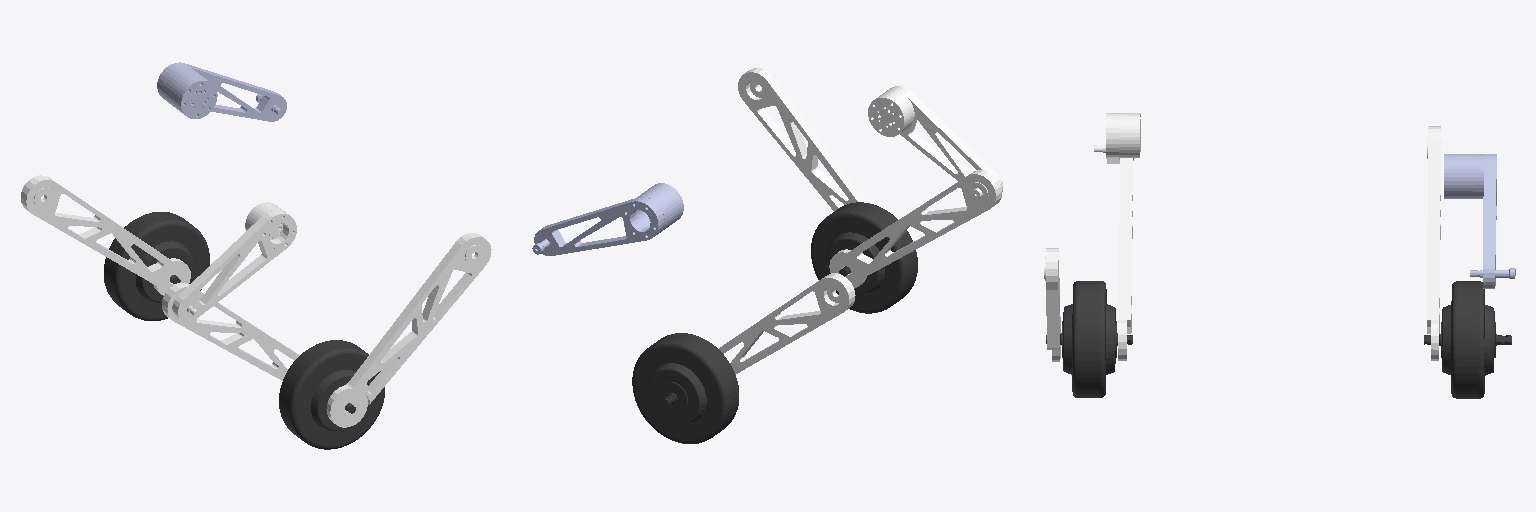
The robot description file, URDF, robot "wheeled_bipedal_description":
<?xml version="1.0"?>
<!-- This URDF was automatically created by SolidWorks to URDF Exporter! Originally created by Stephen Brawner (brawner@gmail.com) 
     Commit Version: 1.6.0-4-g7f85cfe  Build Version: 1.6.7995.38578
     For more information, please see http://wiki.ros.org/sw_urdf_exporter -->
<robot
  name="wheeled_bipedal_description">
  <link
    name="base_link">
    <inertial>
      <origin
        xyz="0.0021437 -0.0018095 0.031519"
        rpy="0 0 0" />
      <mass
        value="1.339" />
      <inertia
        ixx="0.031029"
        ixy="0.000278"
        ixz="0.000114"
        iyy="0.017099"
        iyz="-0.00017"
        izz="0.044317" />
    </inertial>
    <visual>
      <origin
        xyz="0 0 0"
        rpy="0 0 0" />
      <geometry>
        <mesh
          filename="package://wheeled_bipedal_description/meshes/base_link.STL" />
      </geometry>
      <material
        name="">
        <color
          rgba="0.79216 0.81961 0.93333 1" />
      </material>
    </visual>
    <collision>
      <origin
        xyz="0 0 0"
        rpy="0 0 0" />
      <geometry>
        <mesh
          filename="package://wheeled_bipedal_description/meshes/base_link.STL" />
      </geometry>
    </collision>
  </link>
  <link
    name="LF_leg_link">
    <inertial>
      <origin
        xyz="0.04809 -0.017442 0.00033347"
        rpy="0 0 0" />
      <mass
        value="0.21238" />
      <inertia
        ixx="0.000116"
        ixy="-0.000106"
        ixz="4E-06"
        iyy="0.000794"
        iyz="1E-06"
        izz="0.000814" />
    </inertial>
    <visual>
      <origin
        xyz="0 0 0"
        rpy="0 0 0" />
      <geometry>
        <mesh
          filename="package://wheeled_bipedal_description/meshes/LF_leg_link.STL" />
      </geometry>
      <material
        name="">
        <color
          rgba="0.79216 0.81961 0.93333 1" />
      </material>
    </visual>
    <collision>
      <origin
        xyz="0 0 0"
        rpy="0 0 0" />
      <geometry>
        <mesh
          filename="package://wheeled_bipedal_description/meshes/LF_leg_link.STL" />
      </geometry>
    </collision>
  </link>
  <joint name="base_LF_joint" type="revolute">
    <origin xyz="0.057024 0.25604 0.053" rpy="0 0.43149 -0.011811" />
    <parent link="base_link" />
    <child link="LF_leg_link" />
    <axis xyz="0 1 0" />
    <limit lower="-2.0" upper="1.57" effort="1e9" velocity="1e9"/>
  </joint>
  <link
    name="LF_knee_link">
    <inertial>
      <origin
        xyz="0.1231 -0.0078704 -0.00048416"
        rpy="0 0 0" />
      <mass
        value="0.2511" />
      <inertia
        ixx="5.8E-05"
        ixy="1.7E-05"
        ixz="-1E-05"
        iyy="0.002071"
        iyz="0"
        izz="0.002022" />
    </inertial>
    <visual>
      <origin
        xyz="0 0 0"
        rpy="0 0 0" />
      <geometry>
        <mesh
          filename="package://wheeled_bipedal_description/meshes/LF_knee_link.STL" />
      </geometry>
      <material
        name="">
        <color
          rgba="1 1 1 1" />
      </material>
    </visual>
    <collision>
      <origin
        xyz="0 0 0"
        rpy="0 0 0" />
      <geometry>
        <mesh
          filename="package://wheeled_bipedal_description/meshes/LF_knee_link.STL" />
      </geometry>
    </collision>
  </link>
  <joint
    name="LF_knee_joint"
    type="continuous">
    <origin
      xyz="0.15 0.015 0"
      rpy="-3.1416 1.1851 -3.1416" />
    <parent
      link="LF_leg_link" />
    <child
      link="LF_knee_link" />
    <axis
      xyz="0 1 0" />
  </joint>
  <link
    name="left_wheel_link">
    <inertial>
      <origin
        xyz="-2E-06 3E-06 0"
        rpy="0 0 0" />
      <mass
        value="0.85254" />
      <inertia
        ixx="0.001074"
        ixy="0"
        ixz="0"
        iyy="0.001774"
        iyz="0"
        izz="0.001074" />
    </inertial>
    <visual>
      <origin
        xyz="0 0 0"
        rpy="0 0 0" />
      <geometry>
        <mesh
          filename="package://wheeled_bipedal_description/meshes/left_wheel_link.STL" />
      </geometry>
      <material
        name="">
        <color
          rgba="0.29804 0.29804 0.29804 1" />
      </material>
    </visual>
    <collision>
      <origin
        xyz="0 0 0"
        rpy="0 0 0" />
      <geometry>
        <mesh
          filename="package://wheeled_bipedal_description/meshes/left_wheel_link.STL" />
      </geometry>
    </collision>
  </link>
  <joint
    name="left_wheel_joint"
    type="continuous">
    <origin
      xyz="0.249998873591879 -0.0491030149636819 0"
      rpy="-3.13051030477686 -0.753563717743009 3.1253968717351" />
    <parent
      link="LF_knee_link" />
    <child
      link="left_wheel_link" />
    <axis
      xyz="-0.0118103395321176 -0.999930255507921 0" />
  </joint>
  <link
    name="LR_leg_link">
    <inertial>
      <origin
        xyz="0.051202 -0.01272 -0.00035505"
        rpy="0 0 0" />
      <mass
        value="0.19947" />
      <inertia
        ixx="6.3E-05"
        ixy="-4.9E-05"
        ixz="-5E-06"
        iyy="0.000751"
        iyz="0"
        izz="0.00073" />
    </inertial>
    <visual>
      <origin
        xyz="0 0 0"
        rpy="0 0 0" />
      <geometry>
        <mesh
          filename="package://wheeled_bipedal_description/meshes/LR_leg_link.STL" />
      </geometry>
      <material
        name="">
        <color
          rgba="0.79216 0.81961 0.93333 1" />
      </material>
    </visual>
    <collision>
      <origin
        xyz="0 0 0"
        rpy="0 0 0" />
      <geometry>
        <mesh
          filename="package://wheeled_bipedal_description/meshes/LR_leg_link.STL" />
      </geometry>
    </collision>
  </link>
  <joint name="base_LR_joint" type="revolute">
    <origin xyz="-0.051597 0.20412 0.053" rpy="-3.1416 0.51685 3.1298" />
    <parent link="base_link" />
    <child link="LR_leg_link" />
    <axis xyz="0 1 0" />
    <limit lower="-0.9" upper="2.089" effort="1e9" velocity="1e9"/>
  </joint>
  <link
    name="LR_knee_link">
    <inertial>
      <origin
        xyz="0.12012 0.0077944 -0.00049441"
        rpy="0 0 0" />
      <mass
        value="0.24589" />
      <inertia
        ixx="5.6E-05"
        ixy="-1.4E-05"
        ixz="-1E-05"
        iyy="0.001963"
        iyz="0"
        izz="0.001916" />
    </inertial>
    <visual>
      <origin
        xyz="0 0 0"
        rpy="0 0 0" />
      <geometry>
        <mesh
          filename="package://wheeled_bipedal_description/meshes/LR_knee_link.STL" />
      </geometry>
      <material
        name="">
        <color
          rgba="1 1 1 1" />
      </material>
    </visual>
    <collision>
      <origin
        xyz="0 0 0"
        rpy="0 0 0" />
      <geometry>
        <mesh
          filename="package://wheeled_bipedal_description/meshes/LR_knee_link.STL" />
      </geometry>
    </collision>
  </link>
  <joint
    name="LR_knee_joint"
    type="continuous">
    <origin
      xyz="0.149999999999806 -0.0300000000000002 0"
      rpy="3.14159265357704 -1.20970432068389 -3.1415926535845" />
    <parent
      link="LR_leg_link" />
    <child
      link="LR_knee_link" />
    <axis
      xyz="0 -1 0" />
  </joint>
  <link
    name="RF_leg_link">
    <inertial>
      <origin
        xyz="0.04809 0.017442 0.00033347"
        rpy="0 0 0" />
      <mass
        value="0.21238" />
      <inertia
        ixx="0.000116"
        ixy="0.000106"
        ixz="4E-06"
        iyy="0.000794"
        iyz="1E-06"
        izz="0.000814" />
    </inertial>
    <visual>
      <origin
        xyz="0 0 0"
        rpy="0 0 0" />
      <geometry>
        <mesh
          filename="package://wheeled_bipedal_description/meshes/RF_leg_link.STL" />
      </geometry>
      <material
        name="">
        <color
          rgba="0.79216 0.81961 0.93333 1" />
      </material>
    </visual>
    <collision>
      <origin
        xyz="0 0 0"
        rpy="0 0 0" />
      <geometry>
        <mesh
          filename="package://wheeled_bipedal_description/meshes/RF_leg_link.STL" />
      </geometry>
    </collision>
  </link>
  <joint name="base_RF_joint" type="revolute">
    <origin xyz="0.05096 -0.25732 0.053" rpy="0 0.40442 -0.011811" />
    <parent link="base_link" />
    <child link="RF_leg_link" />
    <axis xyz="0 1 0" />
    <limit lower="-2.0" upper="1.57" effort="1e9" velocity="1e9"/>
  </joint>
  <link
    name="RF_knee_link">
    <inertial>
      <origin
        xyz="0.1231 0.0078704 -0.00048416"
        rpy="0 0 0" />
      <mass
        value="0.2511" />
      <inertia
        ixx="5.8E-05"
        ixy="-1.7E-05"
        ixz="-1E-05"
        iyy="0.002071"
        iyz="0"
        izz="0.002022" />
    </inertial>
    <visual>
      <origin
        xyz="0 0 0"
        rpy="0 0 0" />
      <geometry>
        <mesh
          filename="package://wheeled_bipedal_description/meshes/RF_knee_link.STL" />
      </geometry>
      <material
        name="">
        <color
          rgba="1 1 1 1" />
      </material>
    </visual>
    <collision>
      <origin
        xyz="0 0 0"
        rpy="0 0 0" />
      <geometry>
        <mesh
          filename="package://wheeled_bipedal_description/meshes/RF_knee_link.STL" />
      </geometry>
    </collision>
  </link>
  <joint
    name="RF_knee_joint"
    type="continuous">
    <origin
      xyz="0.149999999999924 -0.0149999999999972 0"
      rpy="-3.14159265353526 1.17572223524246 -3.14159265353876" />
    <parent
      link="RF_leg_link" />
    <child
      link="RF_knee_link" />
    <axis
      xyz="0 1 0" />
  </joint>
  <link
    name="right_wheel_link">
    <inertial>
      <origin
        xyz="-1E-06 -1E-06 0"
        rpy="0 0 0" />
      <mass
        value="0.85254" />
      <inertia
        ixx="0.0010739"
        ixy="8E-06"
        ixz="0"
        iyy="0.0017744"
        iyz="0"
        izz="0.0010738" />
    </inertial>
    <visual>
      <origin
        xyz="0 0 0"
        rpy="0 0 0" />
      <geometry>
        <mesh
          filename="package://wheeled_bipedal_description/meshes/right_wheel_link.STL" />
      </geometry>
      <material
        name="">
        <color
          rgba="0.29804 0.29804 0.29804 1" />
      </material>
    </visual>
    <collision>
      <origin
        xyz="0 0 0"
        rpy="0 0 0" />
      <geometry>
        <mesh
          filename="package://wheeled_bipedal_description/meshes/right_wheel_link.STL" />
      </geometry>
    </collision>
  </link>
  <joint
    name="right_wheel_joint"
    type="continuous">
    <origin
      xyz="0.249999235453996 0.0491014228925789 0"
      rpy="-3.1301112502539 -0.771230823255971 3.12512125115761" />
    <parent
      link="RF_knee_link" />
    <child
      link="right_wheel_link" />
    <axis
      xyz="-0.0118103395321099 -0.999930255507921 0" />
  </joint>
  <link
    name="RR_leg_link">
    <inertial>
      <origin
        xyz="0.051202 0.01272 -0.000355"
        rpy="0 0 0" />
      <mass
        value="0.199469" />
      <inertia
        ixx="6.3E-05"
        ixy="4.9E-05"
        ixz="-5E-06"
        iyy="0.000751"
        iyz="0"
        izz="0.00073" />
    </inertial>
    <visual>
      <origin
        xyz="0 0 0"
        rpy="0 0 0" />
      <geometry>
        <mesh
          filename="package://wheeled_bipedal_description/meshes/RR_leg_link.STL" />
      </geometry>
      <material
        name="">
        <color
          rgba="1 1 1 1" />
      </material>
    </visual>
    <collision>
      <origin
        xyz="0 0 0"
        rpy="0 0 0" />
      <geometry>
        <mesh
          filename="package://wheeled_bipedal_description/meshes/RR_leg_link.STL" />
      </geometry>
    </collision>
  </link>
  <joint name="base_RR_joint" type="revolute">
    <origin xyz="-0.0564037489137038 -0.202850608084869 0.0529999999998718" rpy="-3.14159265358979 0.540465075056446 3.12978203948131" />
    <parent link="base_link" />
    <child link="RR_leg_link" />
    <axis xyz="0 1 0" />
    <limit lower="-0.9" upper="2.089" effort="1e9" velocity="1e9"/>
  </joint>
  <link
    name="RR_knee_link">
    <inertial>
      <origin
        xyz="0.12012 -0.0077944 -0.00049441"
        rpy="0 0 0" />
      <mass
        value="0.24589" />
      <inertia
        ixx="5.6E-05"
        ixy="1.4E-05"
        ixz="-1E-05"
        iyy="0.001963"
        iyz="0"
        izz="0.001916" />
    </inertial>
    <visual>
      <origin
        xyz="0 0 0"
        rpy="0 0 0" />
      <geometry>
        <mesh
          filename="package://wheeled_bipedal_description/meshes/RR_knee_link.STL" />
      </geometry>
      <material
        name="">
        <color
          rgba="1 1 1 1" />
      </material>
    </visual>
    <collision>
      <origin
        xyz="0 0 0"
        rpy="0 0 0" />
      <geometry>
        <mesh
          filename="package://wheeled_bipedal_description/meshes/RR_knee_link.STL" />
      </geometry>
    </collision>
  </link>
  <joint
    name="RR_knee_joint"
    type="continuous">
    <origin
      xyz="0.14999999999987 0.03 0"
      rpy="-3.14159265357348 -1.21487868120374 3.14159265357644" />
    <parent
      link="RR_leg_link" />
    <child
      link="RR_knee_link" />
    <axis
      xyz="0 -1 0" />
  </joint>

  <gazebo>
      <joint name='LR_WheelJointFixed' type='revolute'>
        <pose relative_to='LR_knee_link'>0.25 0.049097 0 -0.009804 -0.6928 0.015349</pose>
        <parent>LR_knee_link</parent>
        <child>left_wheel_link</child>
        <axis>
          <xyz>-0.01181 -0.99993 0</xyz>
          <!-- <limit>
            <lower>-3.14</lower>
            <upper>3.14</upper>
            <effort>20</effort>
            <velocity>30</velocity>
          </limit> -->
        </axis>
        <!-- <dynamic>
          <friction>0.01</friction>
          <damping>0.01</damping>
        </dynamic> -->
      </joint>
  </gazebo>

  <gazebo>
      <joint name='RR_WheelJointFixed' type='revolute'>
        <pose relative_to='RR_knee_link'>0.25 -0.049099 0 -0.0094417 -0.67436 0.015121</pose>
        <parent>RR_knee_link</parent>
        <child>right_wheel_link</child>
        <axis>
          <xyz>-0.01181 -0.99993 0</xyz>
          <!-- <limit>
            <lower>-3.14</lower>
            <upper>3.14</upper>
            <effort>20</effort>
            <velocity>30</velocity>
          </limit> -->
        </axis>
        <!-- <dynamic>
          <friction>0.01</friction>
          <damping>0.01</damping>
        </dynamic> -->
      </joint>
  </gazebo>

  <gazebo>
    <plugin name="gazebo_ros_joint_state_publisher"
      filename="libgazebo_ros_joint_state_publisher.so">
      <ros>
        <namespace>/</namespace>
        <argument>joint_states:=joint_states</argument>
      </ros>
      <update_rate>30</update_rate>
      <joint_name>base_LF_joint</joint_name>
      <joint_name>LF_knee_joint</joint_name>
      <joint_name>left_wheel_joint</joint_name>
      <joint_name>base_LR_joint</joint_name>
      <joint_name>LR_knee_joint</joint_name>
      <joint_name>base_RF_joint</joint_name>
      <joint_name>RF_knee_joint</joint_name>
      <joint_name>right_wheel_joint</joint_name>
      <joint_name>base_RR_joint</joint_name>
      <joint_name>RR_knee_joint</joint_name>
      <joint_name>LR_WheelJointFixed</joint_name>
      <joint_name>RR_WheelJointFixed</joint_name>
    </plugin>
  </gazebo>
</robot>

--- Render facts (derived) ---
3 views of the same robot in one strip: view 1: azimuth 30°, elevation 25°; view 2: azimuth 150°, elevation 25°; view 3: azimuth 270°, elevation 25° (orthographic).
Robot: wheeled_bipedal_description — 11 links, 10 joints (4 revolute, 6 continuous); root link base_link; default pose: all joints at 0.
Visible links, largest first — view 1: RF_knee_link, right_wheel_link, left_wheel_link, RR_leg_link, LR_knee_link, LF_leg_link, RR_knee_link; view 2: left_wheel_link, right_wheel_link, RF_knee_link, RR_knee_link, LF_leg_link, RR_leg_link, LR_knee_link; view 3: left_wheel_link, right_wheel_link, LF_leg_link, LR_knee_link, RR_knee_link, RR_leg_link, RF_knee_link.
Boxes of the visible links, x1,y1,x2,y2 form: RF_knee_link: (326, 233, 491, 427); right_wheel_link: (279, 340, 384, 449); left_wheel_link: (104, 212, 209, 320); RR_leg_link: (172, 202, 296, 322); LR_knee_link: (21, 175, 190, 295); LF_leg_link: (157, 62, 286, 121); RR_knee_link: (162, 283, 299, 380); left_wheel_link: (632, 333, 738, 443); right_wheel_link: (811, 202, 917, 313); RF_knee_link: (738, 68, 867, 211); RR_knee_link: (829, 170, 1001, 288); LF_leg_link: (532, 183, 683, 255); RR_leg_link: (868, 86, 1002, 198); LR_knee_link: (719, 273, 855, 374); left_wheel_link: (1424, 281, 1511, 398); right_wheel_link: (1046, 281, 1132, 397); LF_leg_link: (1444, 154, 1515, 288); LR_knee_link: (1427, 126, 1440, 360); RR_knee_link: (1118, 158, 1134, 360); RR_leg_link: (1094, 113, 1140, 163); RF_knee_link: (1044, 248, 1060, 361).
Bounding box of the posed robot: 0.4235 × 0.5536 × 0.3293 m (x, y, z).
Meshes: 11 distinct files referenced, 7 mesh visuals loaded (7 binary STL); not drawn: 4 (reference not matched to a file when rendering).
